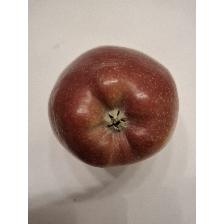Apfel: (44, 42, 180, 170)
